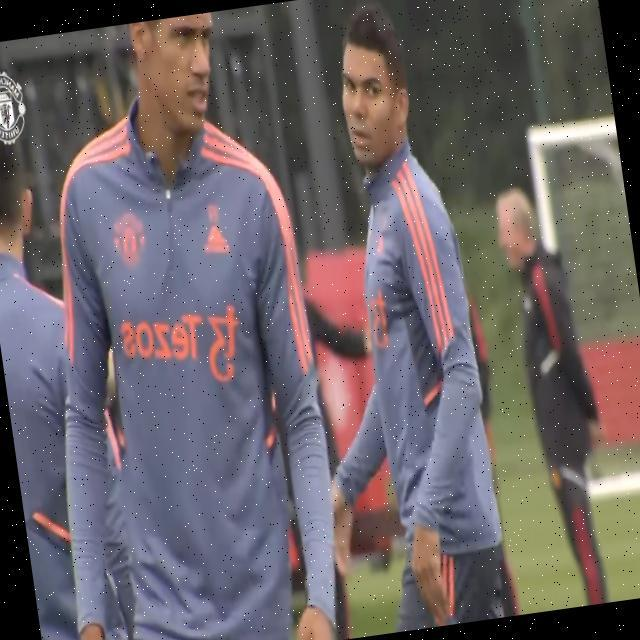Adidas: (202, 222, 231, 256)
